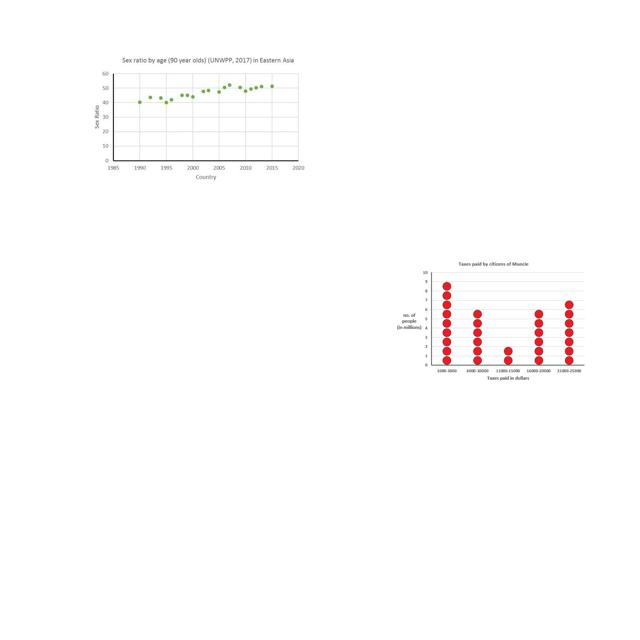Graph: (87, 54, 307, 184), (391, 257, 588, 386)
